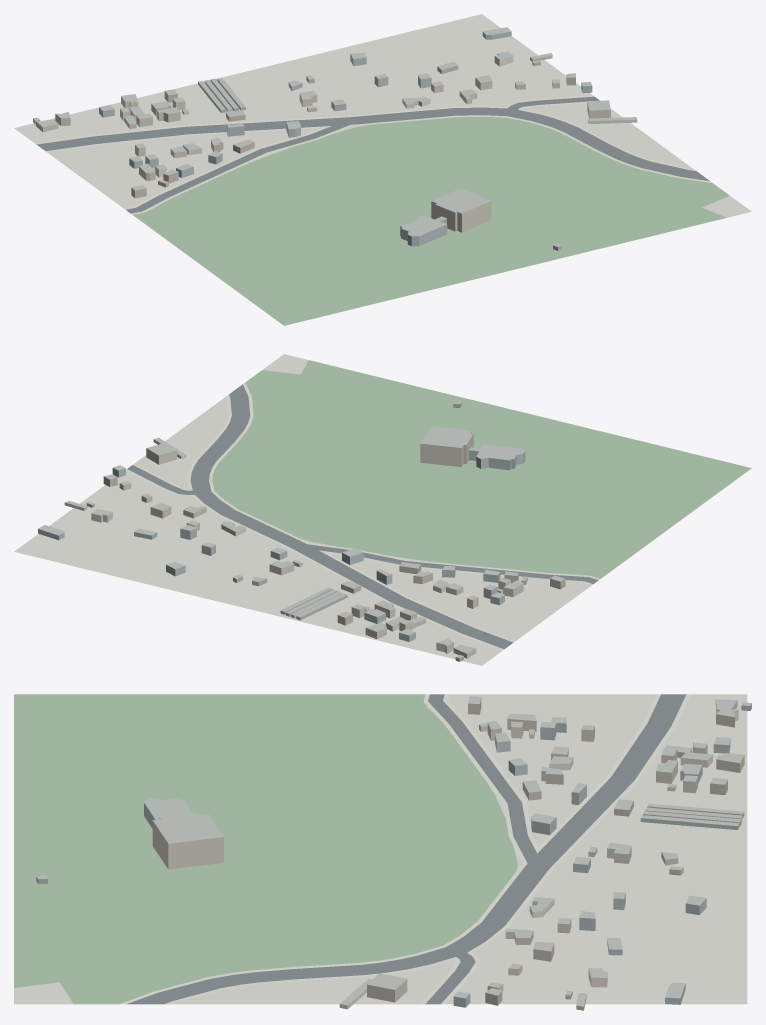
3 views of the same model, one above another, from view 1: azimuth 30°, elevation 25°; view 2: azimuth 150°, elevation 25°; view 3: azimuth 270°, elevation 25° (orthographic). The views are drawn at different scales.
Visible parts, largest first — view 1: city; view 2: city; view 3: city.
Part boxes in pixels (box(x1,y1,x2,y2)): city: box(14, 14, 751, 325); city: box(14, 354, 751, 665); city: box(14, 694, 751, 1010).
Size of the model in its own units: 510 by 19.5 by 503.
